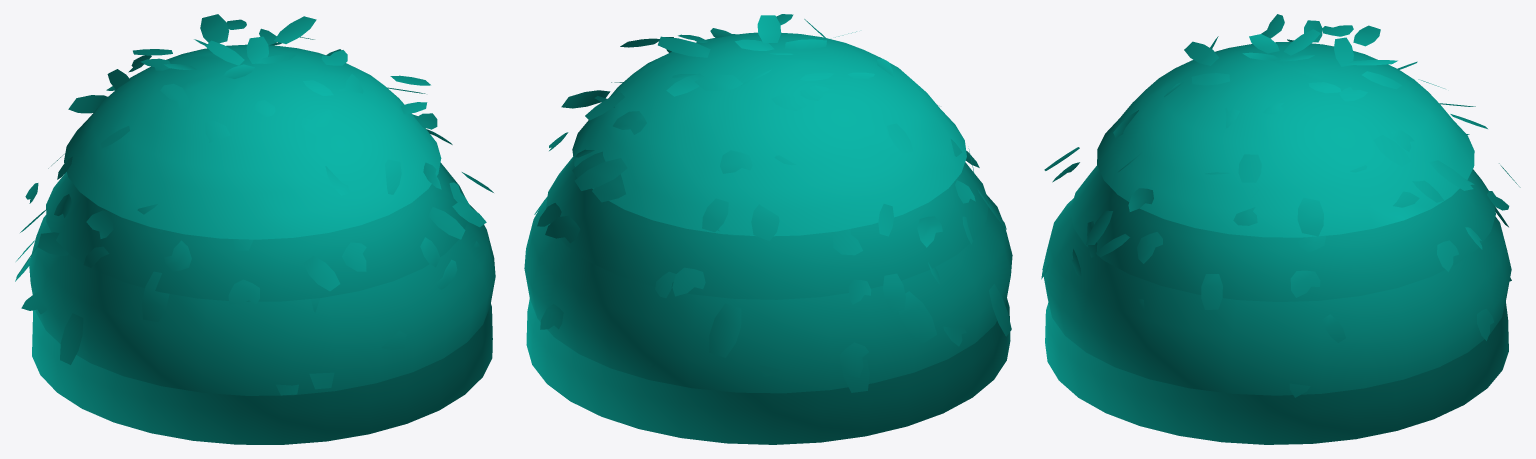
Rendered from SM_BigBush.fbx.
3 views of the same model, side by side, from view 1: azimuth 30°, elevation 25°; view 2: azimuth 150°, elevation 25°; view 3: azimuth 270°, elevation 25° (orthographic). The views are drawn at different scales.
Parts seen in each view (by area): view 1: Sphere210; view 2: Sphere210; view 3: Sphere210.
Boxes of the visible parts, bbox=[...] form: Sphere210: bbox=[15, 14, 495, 444]; Sphere210: bbox=[524, 14, 1012, 444]; Sphere210: bbox=[1041, 14, 1520, 444].
Size of the model in its own units: 120 by 82.09 by 119.
